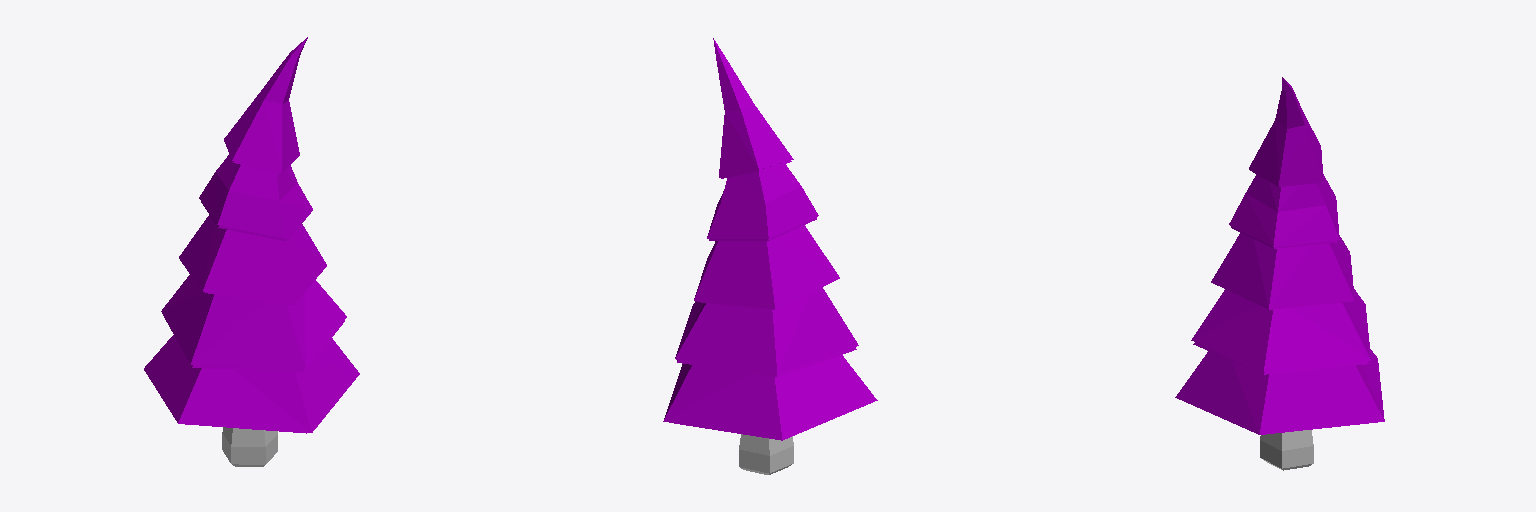
Rendered from lowtree.obj.
3 renders of one model, left to right at view 1: azimuth 30°, elevation 25°; view 2: azimuth 150°, elevation 25°; view 3: azimuth 270°, elevation 25°, orthographic.
Parts seen in each view (by area): view 1: Cylinder.001; view 2: Cylinder.001; view 3: Cylinder.001.
Boxes of the visible parts, x1,y1,x2,y2 form: Cylinder.001: [144, 37, 359, 466]; Cylinder.001: [663, 38, 877, 474]; Cylinder.001: [1175, 77, 1384, 470].
Bounding box in the file's own units: 2.05 × 4.3 × 1.98.